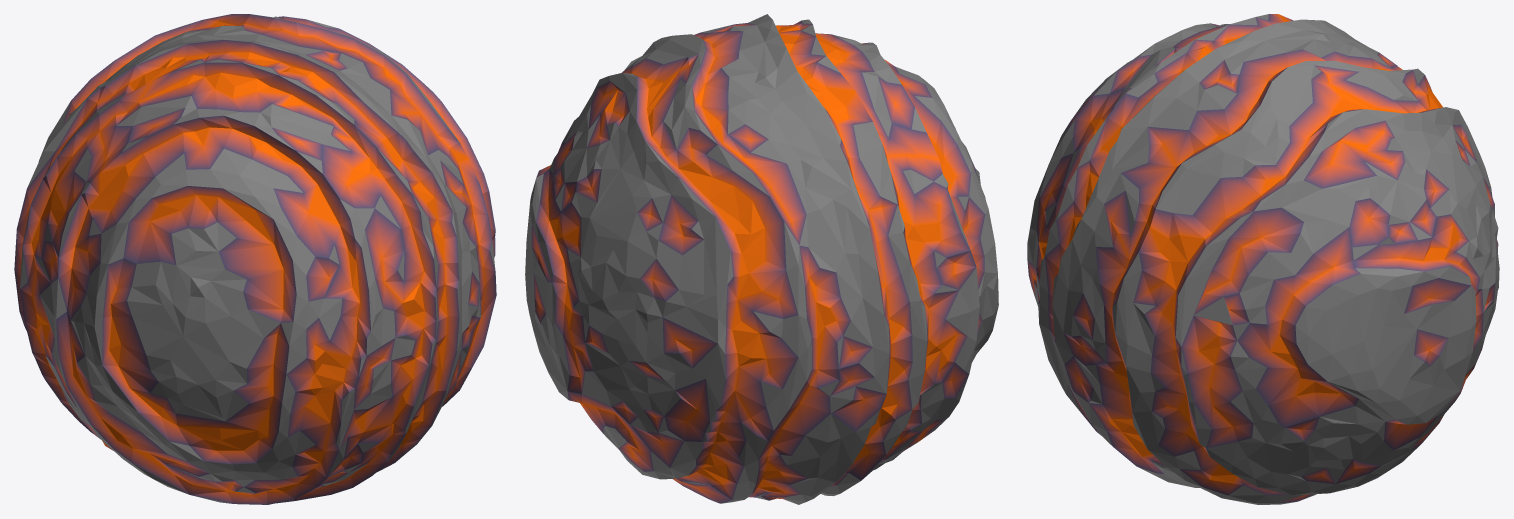
The picture shows the model from 3 angles, left to right: view 1: azimuth 30°, elevation 25°; view 2: azimuth 150°, elevation 25°; view 3: azimuth 270°, elevation 25°; orthographic projection.
Visible parts, largest first — view 1: 10, 9; view 2: 10, 9; view 3: 9, 10.
Part boxes in pixels (box(x1,y1,x2,y2)): 10: box(14, 14, 496, 504); 9: box(20, 15, 496, 503); 10: box(531, 20, 985, 503); 9: box(525, 14, 998, 504); 9: box(1027, 14, 1499, 504); 10: box(1027, 14, 1498, 503).
Size of the model in its own units: 4895 by 5055 by 4838.
